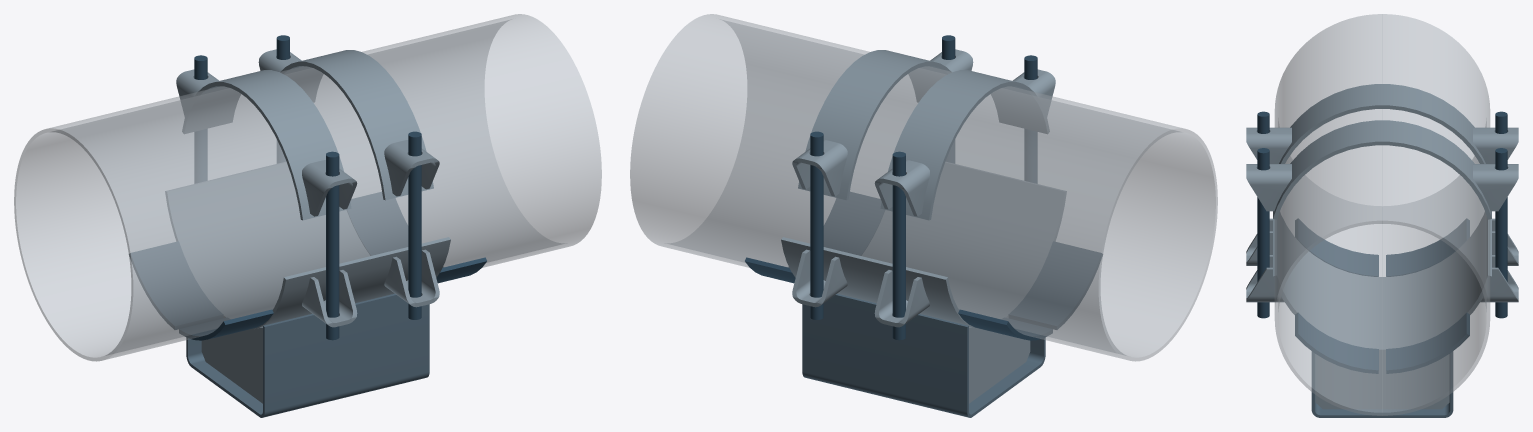
The model's file is TS-671.00.00-04-opora-dn426-H150.glb.
3 renders of one model, left to right at view 1: azimuth 30°, elevation 25°; view 2: azimuth 150°, elevation 25°; view 3: azimuth 270°, elevation 25°, orthographic. The views are drawn at different scales.
Visible parts, largest first — view 1: truba, podushka_0, skoba_1, bugel_podushka_-1_0, bugel_podushka_1_0, upor_-1_1, rebro_2, upor_1_1, shpilka_-1_-1, shpilka_1_-1, bugel_ushko_1_2, bugel_ushko_-1_2 (+7 smaller); view 2: truba, podushka_0, skoba_1, bugel_podushka_-1_0, bugel_podushka_1_0, upor_-1_-1, rebro_2, upor_1_-1, shpilka_-1_1, shpilka_1_1, bugel_ushko_1_1, bugel_ushko_-1_1 (+7 smaller); view 3: truba, podushka_0, rebro_4, bugel_podushka_1_0, bugel_podushka_-1_0, upor_1_1, upor_1_-1, upor_-1_1, upor_-1_-1, skoba_1, bugel_ushko_1_1, bugel_ushko_1_2 (+10 smaller).
Boxes of the visible parts, x1,y1,x2,y2 form: truba: [14, 14, 601, 361]; podushka_0: [165, 162, 450, 329]; skoba_1: [186, 293, 429, 417]; bugel_podushka_-1_0: [182, 70, 351, 220]; bugel_podushka_1_0: [280, 50, 433, 200]; upor_-1_1: [129, 241, 222, 329]; rebro_2: [201, 327, 262, 403]; upor_1_1: [347, 192, 407, 255]; shpilka_-1_-1: [326, 151, 339, 340]; shpilka_1_-1: [408, 131, 421, 319]; bugel_ushko_1_2: [384, 140, 439, 196]; bugel_ushko_-1_2: [302, 160, 357, 216]; truba: [630, 14, 1217, 361]; podushka_0: [781, 162, 1066, 329]; skoba_1: [802, 293, 1045, 417]; bugel_podushka_-1_0: [880, 70, 1049, 220]; bugel_podushka_1_0: [798, 50, 951, 200]; upor_-1_-1: [1009, 241, 1102, 329]; rebro_2: [969, 327, 1030, 403]; upor_1_-1: [824, 192, 884, 255]; shpilka_-1_1: [892, 151, 905, 340]; shpilka_1_1: [810, 131, 823, 319]; bugel_ushko_1_1: [792, 140, 847, 196]; bugel_ushko_-1_1: [874, 160, 929, 216]; truba: [1274, 14, 1490, 415]; podushka_0: [1273, 213, 1491, 353]; rebro_4: [1315, 353, 1449, 409]; bugel_podushka_1_0: [1273, 120, 1491, 219]; bugel_podushka_-1_0: [1279, 84, 1485, 163]; upor_1_1: [1386, 312, 1469, 373]; upor_1_-1: [1295, 312, 1378, 373]; upor_-1_1: [1386, 219, 1469, 276]; upor_-1_-1: [1295, 219, 1378, 276]; skoba_1: [1311, 351, 1453, 417]; bugel_ushko_1_1: [1473, 164, 1518, 211]; bugel_ushko_1_2: [1246, 164, 1291, 211].
Bounding box in the file's own units: 966 × 586 × 538.
